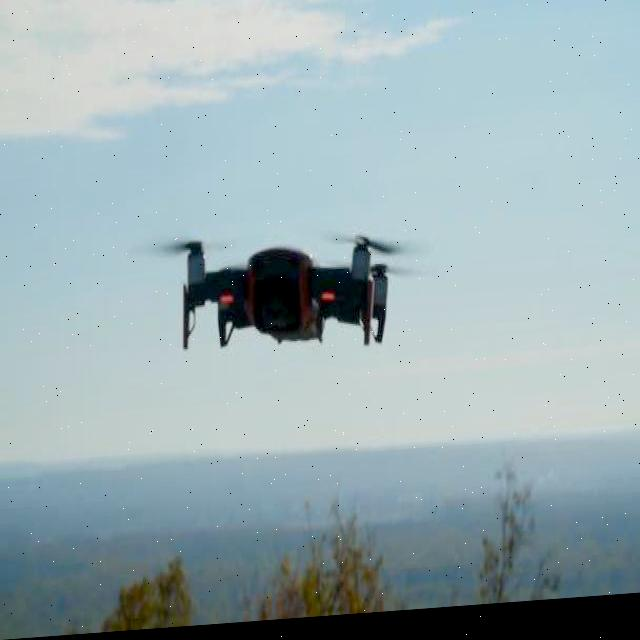drone: (159, 221, 414, 364)
